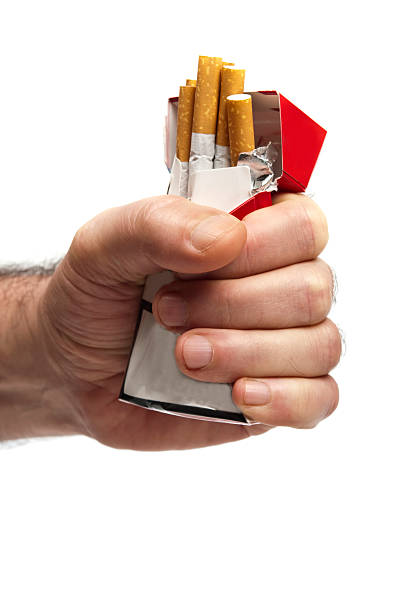cigarette: (119, 86, 327, 431), (188, 53, 223, 161), (214, 64, 247, 159), (222, 93, 256, 164), (174, 82, 196, 166)
